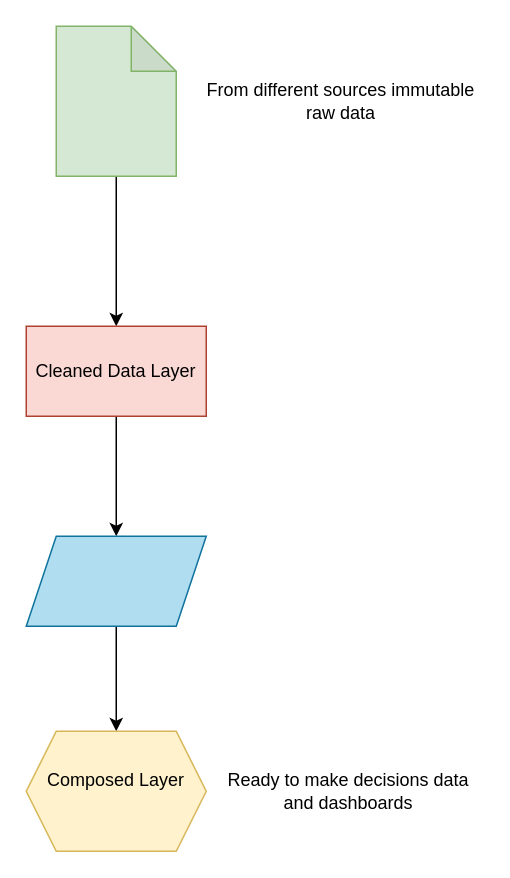
Some shapes in this 510 by 878 pixel diagram are drawn without their labels. Each missing label, with the box of its shape:
Analytics model: (25, 535, 206, 626)
Raw Data Layer: (55, 25, 176, 176)
